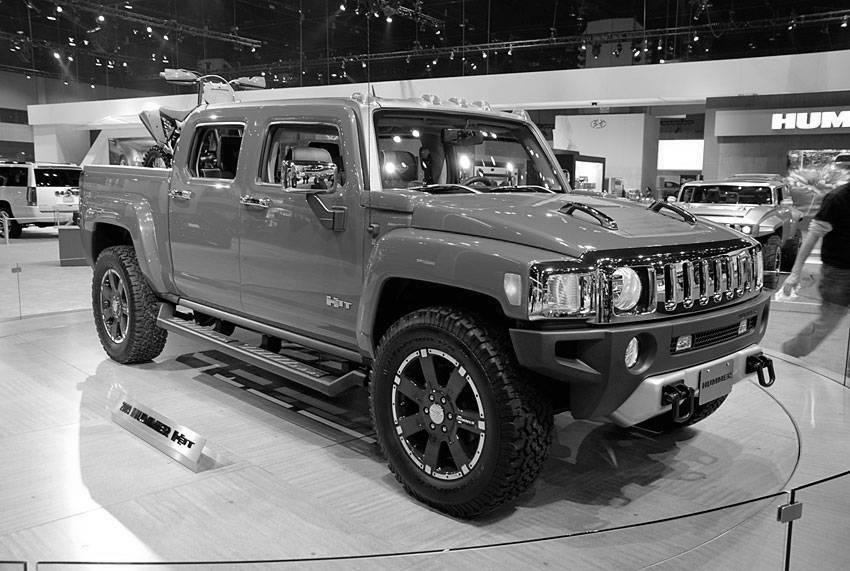car: (61, 92, 778, 522)
